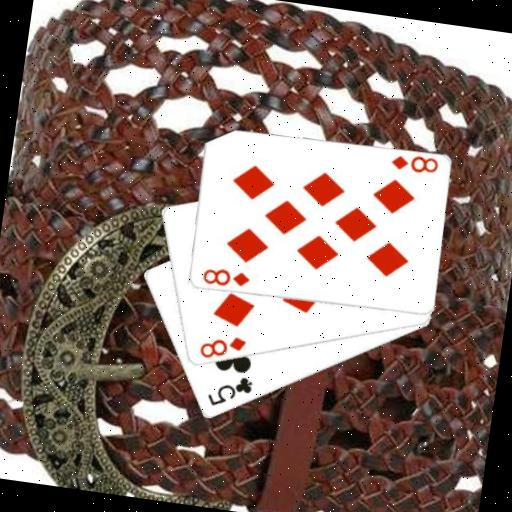5C: (203, 369, 255, 413)
8D: (195, 329, 249, 365), (199, 263, 253, 291), (387, 151, 440, 178)
